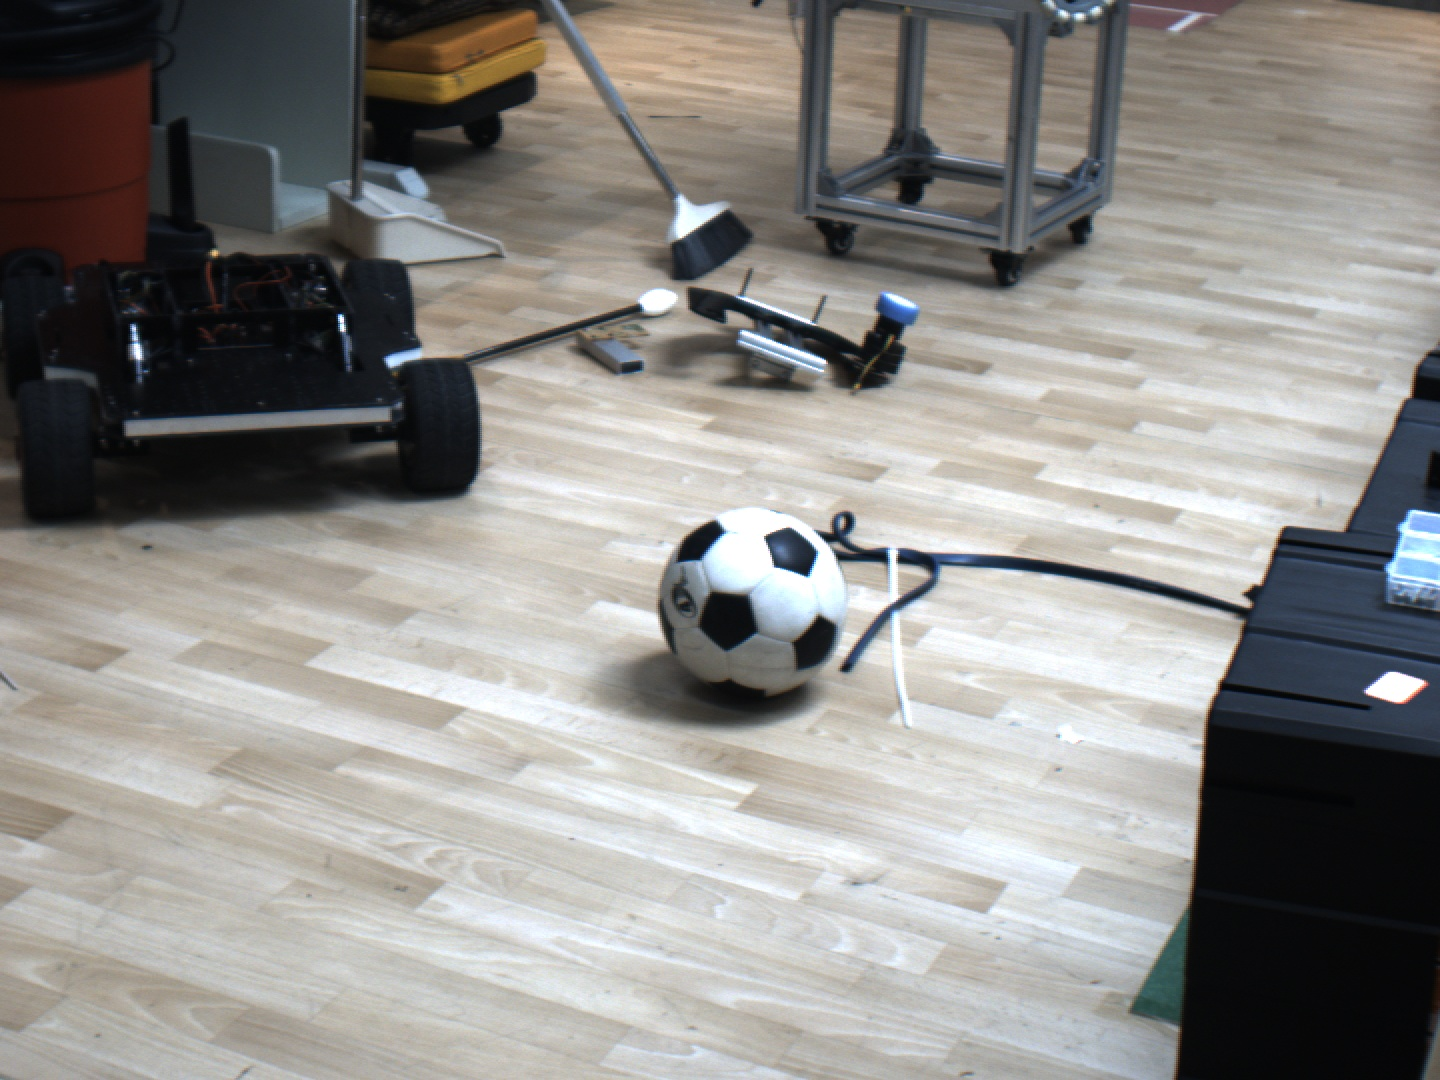ball: (626, 503, 888, 734)
